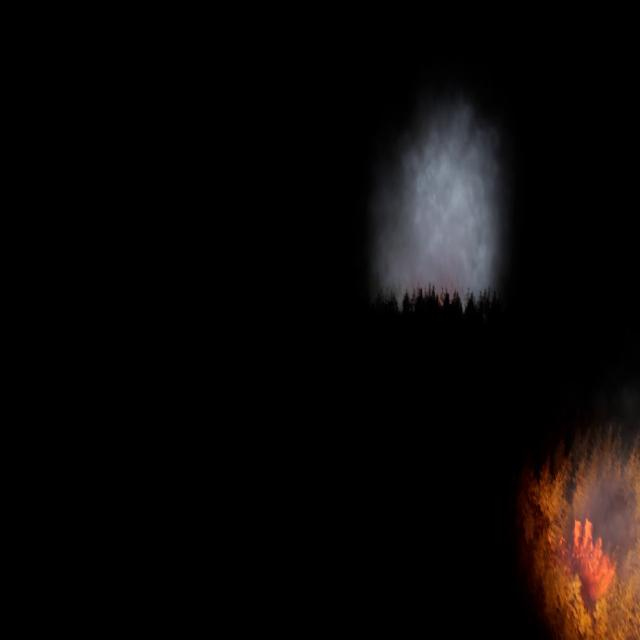fire: (520, 418, 640, 639)
smoke: (362, 97, 504, 300), (578, 472, 631, 567)
